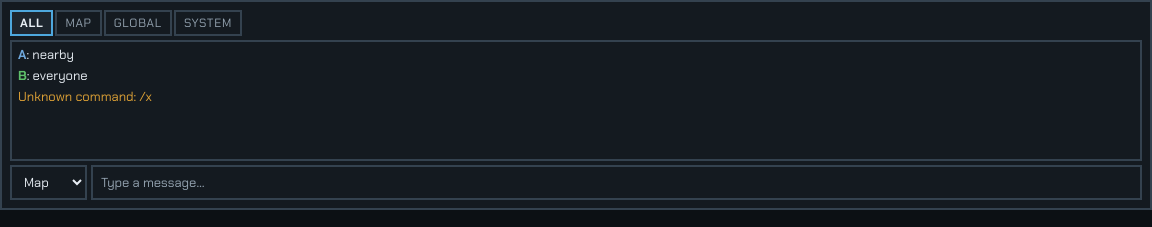
ChatPanel Component › shows one channel under its tab and all of them under All
Click the tab "System". click: click(208, 23)
box: [174,10,242,36]
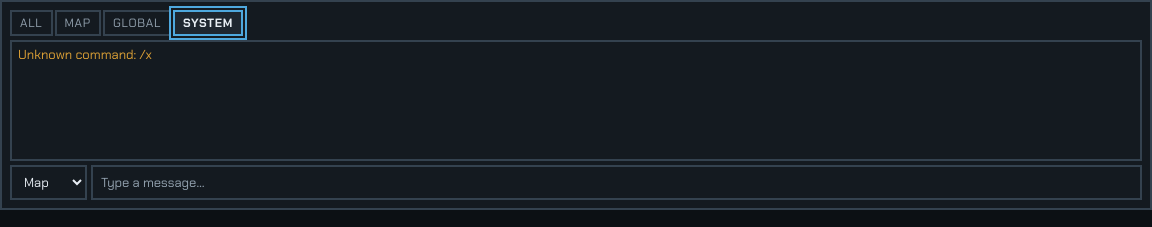
Result: the text "Unknown command: /x" is shown at [18,46,152,63]
Result: the text "A: nearby" is gone
Click the tab "Global". click: click(137, 23)
box: [103,10,171,36]
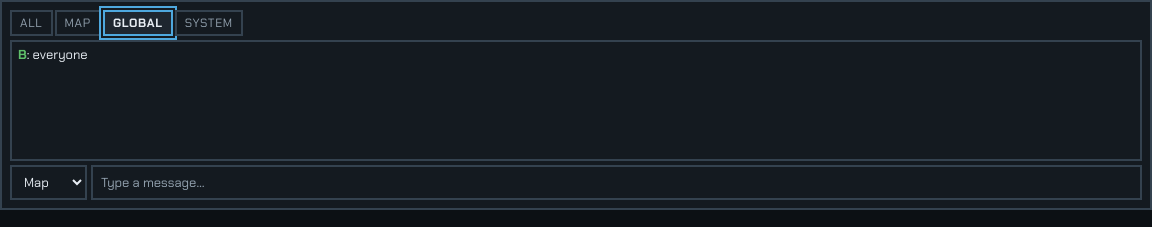
Expected: the text "nearby" is not shown
Result: the text "B: everyone" is shown at [18,46,88,63]
Click the tab "All". click: click(31, 23)
box: [10,10,52,36]
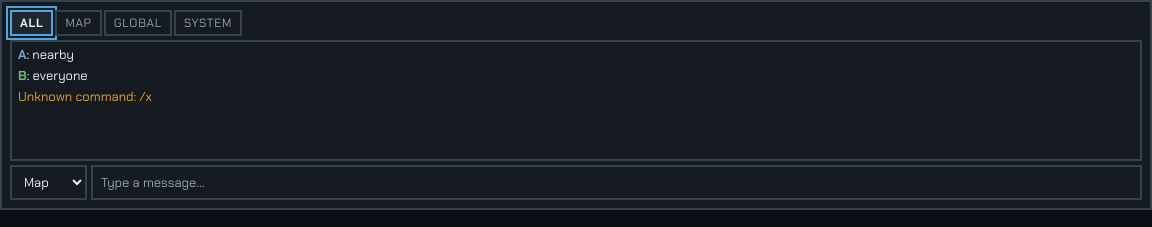
Result: the text "B: everyone" is shown at [18,67,88,84]
Result: the text "A: nearby" is shown at [18,46,74,63]
